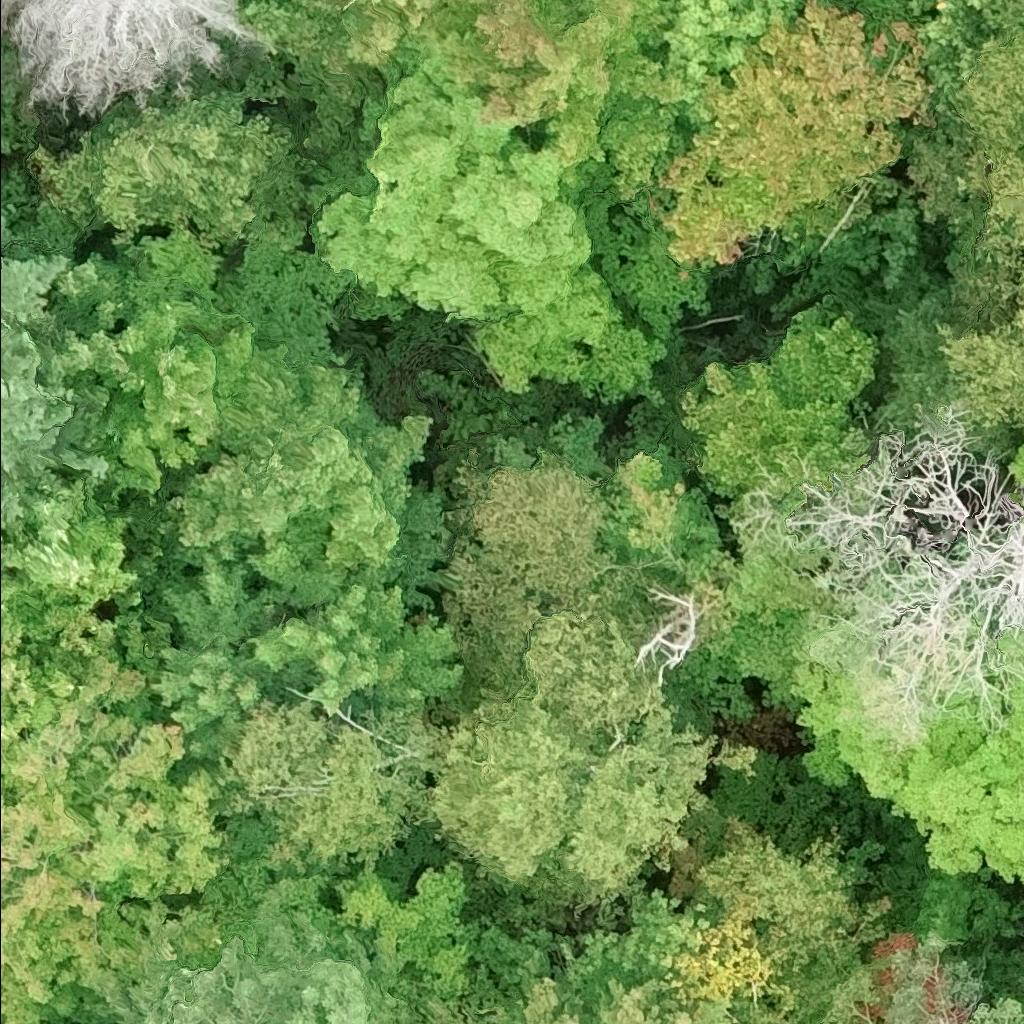crown: (306, 55, 712, 409), (415, 604, 757, 905), (33, 230, 365, 510), (295, 0, 698, 215), (0, 645, 229, 1023), (421, 447, 721, 730), (113, 389, 461, 623), (788, 407, 1023, 738), (656, 0, 936, 263), (786, 657, 1023, 882), (0, 469, 172, 729), (32, 77, 290, 246), (212, 693, 440, 873), (908, 0, 1023, 333), (91, 915, 403, 1023), (519, 886, 750, 1023), (0, 0, 256, 122), (0, 253, 107, 526), (243, 586, 459, 714), (152, 636, 321, 760), (661, 0, 807, 133), (862, 269, 968, 438), (936, 257, 1023, 462), (820, 0, 995, 101), (890, 930, 1021, 1023), (165, 548, 276, 648), (998, 631, 1023, 670), (1014, 437, 1023, 496)
